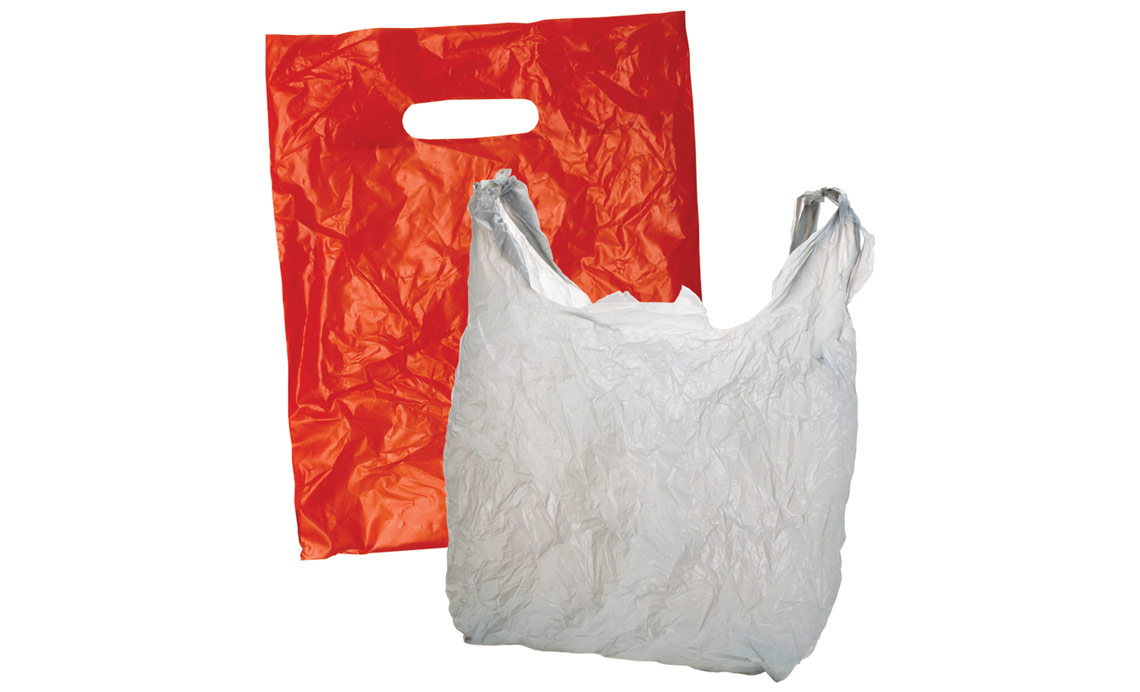plastic_bagwdw: (205, 7, 990, 692), (381, 104, 954, 692)
